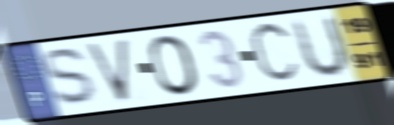3: (196, 28, 246, 93)
C: (247, 18, 303, 88)
O: (145, 32, 203, 98)
S: (40, 45, 104, 109)
U: (290, 13, 351, 82)
V: (82, 36, 132, 106)
